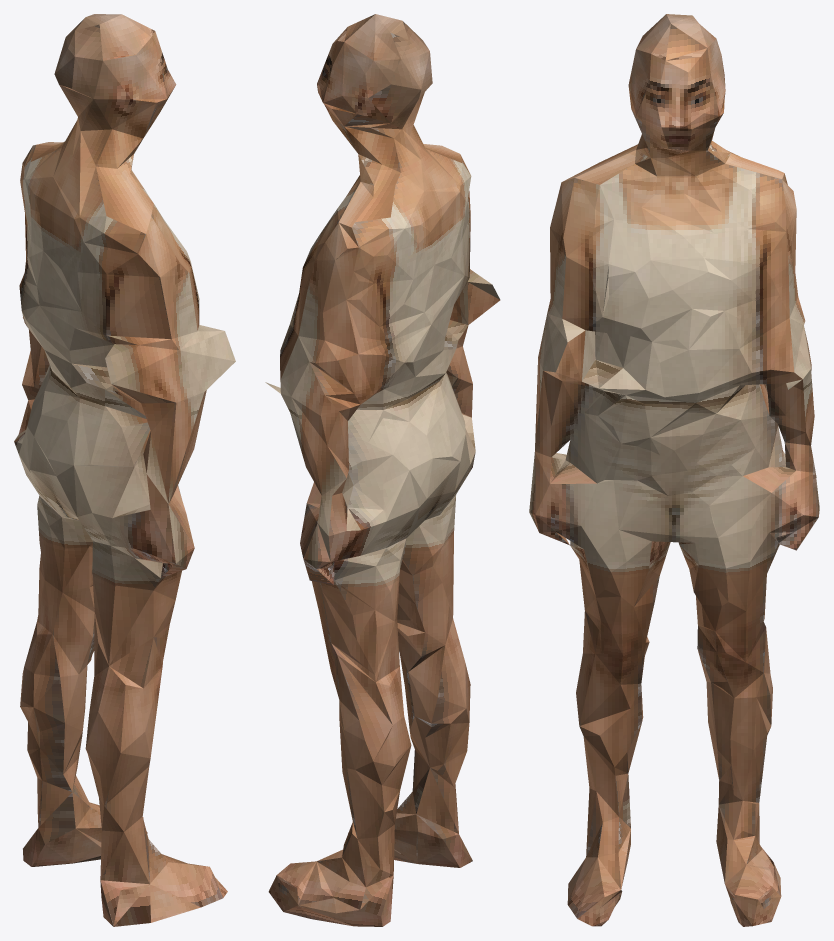
File: personaje.base.cuerpo_mujer_3.glb
The picture shows the model from 3 angles, left to right: view 1: azimuth 30°, elevation 25°; view 2: azimuth 150°, elevation 25°; view 3: azimuth 270°, elevation 25°; orthographic projection.
Parts seen in each view (by area): view 1: personaje.base.cuerpo_mujer_3; view 2: personaje.base.cuerpo_mujer_3; view 3: personaje.base.cuerpo_mujer_3.
Boxes of the visible parts, bbox=[...] form: personaje.base.cuerpo_mujer_3: bbox=[14, 14, 235, 926]; personaje.base.cuerpo_mujer_3: bbox=[265, 14, 500, 926]; personaje.base.cuerpo_mujer_3: bbox=[529, 14, 819, 926].
Size of the model in its own units: 0.2722 by 1.6 by 0.4786.
1 material, 1 textured.
